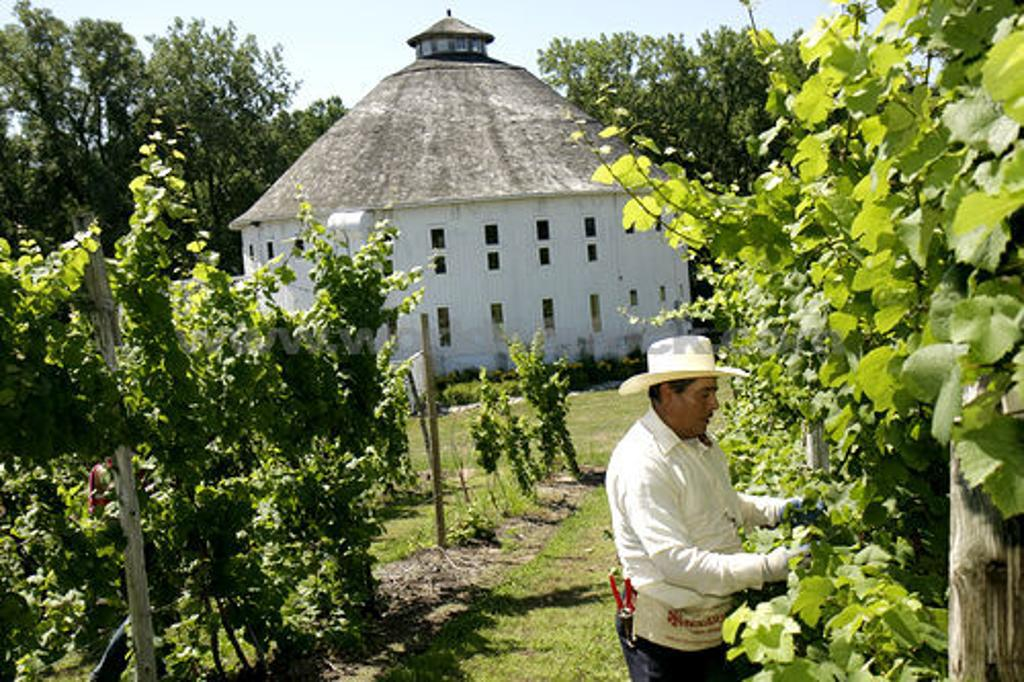face: (659, 355, 719, 439)
